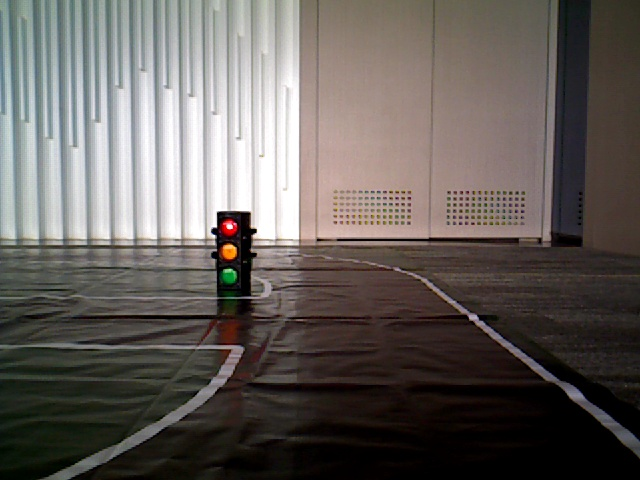red: (219, 213, 242, 285)
